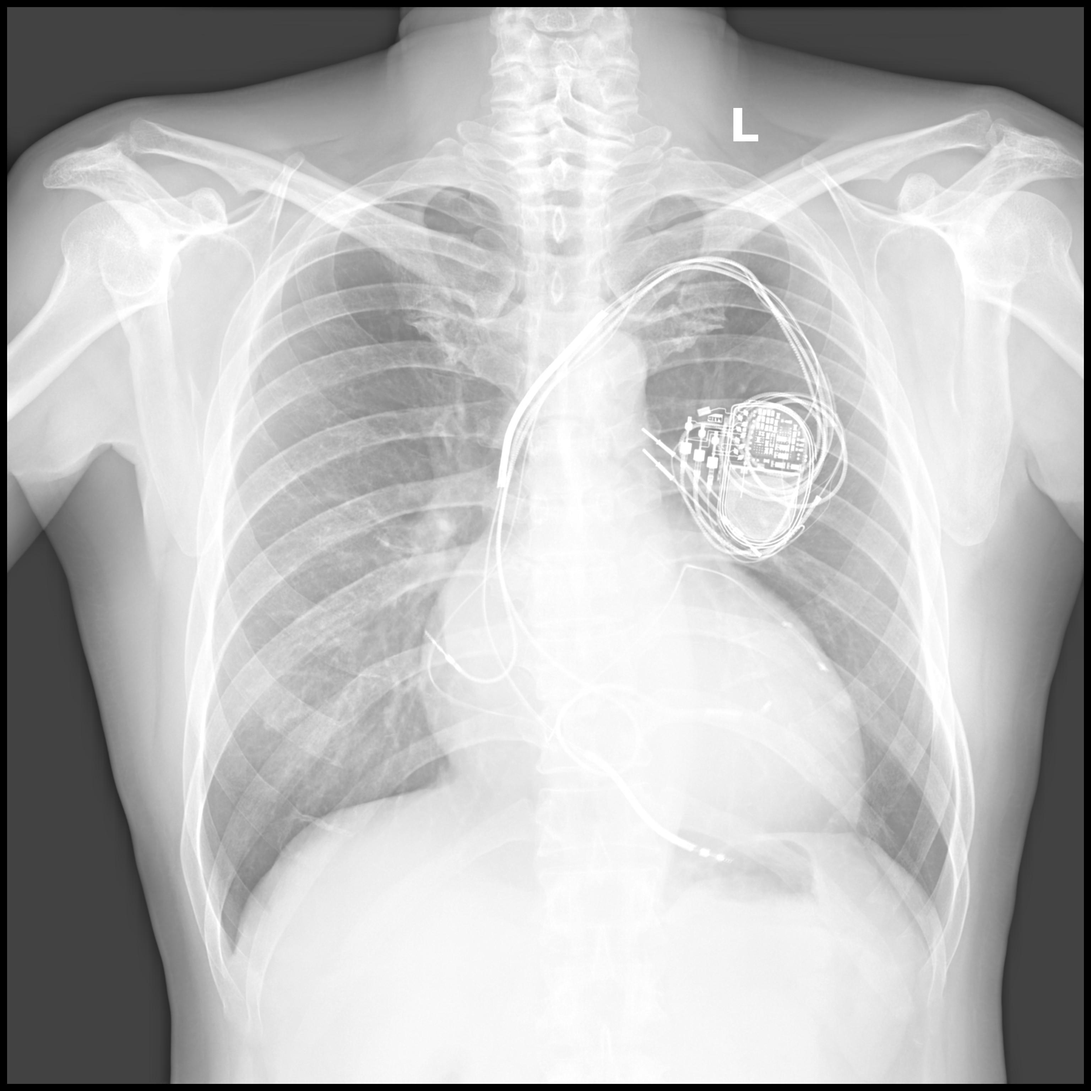Cardiomegaly: (418, 592, 870, 847)
